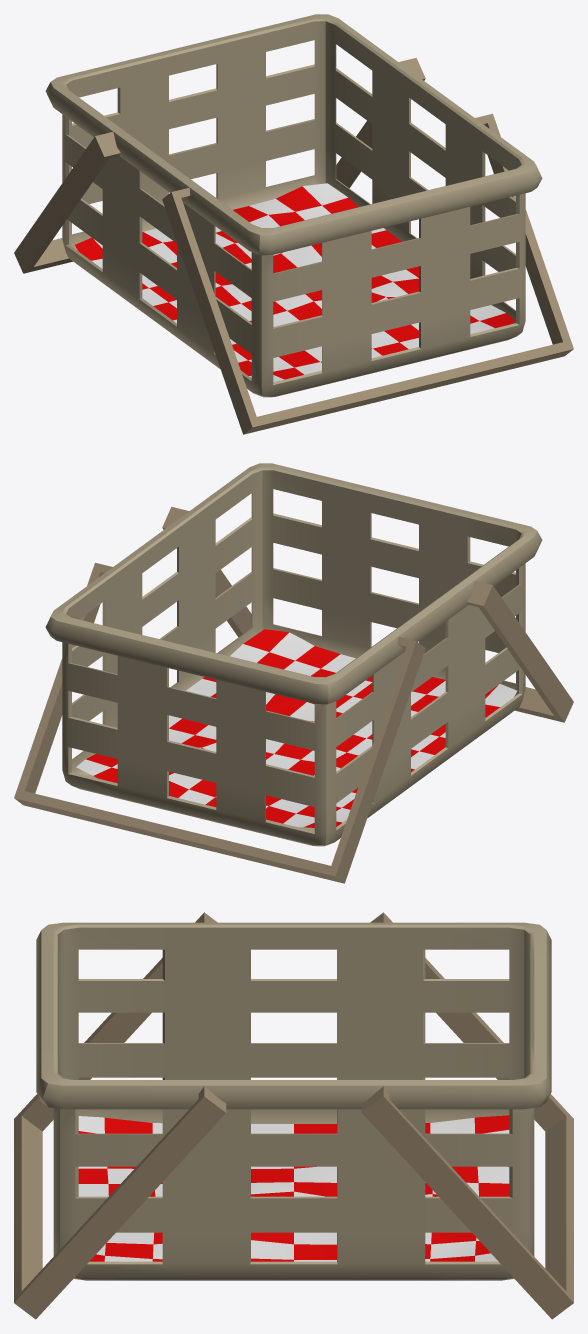
The model's file is Basketpa.fbx.
3 views of the same model, one above another, from view 1: azimuth 30°, elevation 25°; view 2: azimuth 150°, elevation 25°; view 3: azimuth 270°, elevation 25° (orthographic). The views are drawn at different scales.
Parts seen in each view (by area): view 1: Basket2; view 2: Basket2; view 3: Basket2.
Boxes of the visible parts, box(x1,y1,x2,y2) form: Basket2: box(14, 14, 573, 434); Basket2: box(14, 463, 573, 883); Basket2: box(14, 912, 573, 1319).
Bounding box in the file's own units: 1.21 × 0.6872 × 1.55.
